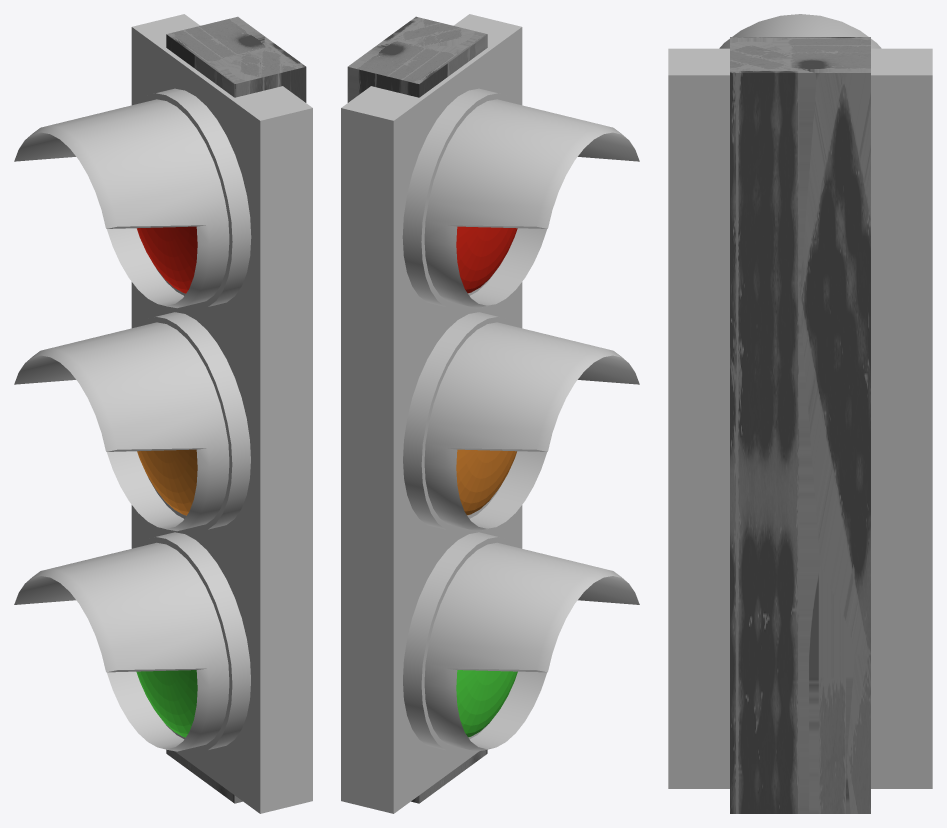
Rendered from TrafficLight5.fbx.
The picture shows the model from 3 angles, left to right: view 1: azimuth 30°, elevation 25°; view 2: azimuth 150°, elevation 25°; view 3: azimuth 270°, elevation 25°; orthographic projection. The views are drawn at different scales.
Parts seen in each view (by area): view 1: LightCovers, TrafficLightBody, LightBacking, Green, Red, Orange; view 2: LightCovers, TrafficLightBody, LightBacking, Green, Red, Orange; view 3: LightBacking, TrafficLightBody, LightCovers.
Boxes of the visible parts, x1,y1,x2,y2 form: LightCovers: (14, 88, 251, 752); TrafficLightBody: (131, 14, 312, 813); LightBacking: (166, 16, 306, 803); Green: (136, 670, 197, 737); Red: (137, 226, 197, 293); Orange: (137, 449, 197, 515); LightCovers: (402, 88, 639, 752); TrafficLightBody: (341, 14, 522, 813); LightBacking: (347, 16, 487, 803); Green: (456, 670, 517, 737); Red: (456, 226, 517, 293); Orange: (456, 449, 516, 515); LightBacking: (730, 37, 870, 813); TrafficLightBody: (668, 48, 932, 788); LightCovers: (719, 14, 881, 48).
Bounding box in the file's own units: 93.81 × 304 × 98.4.
